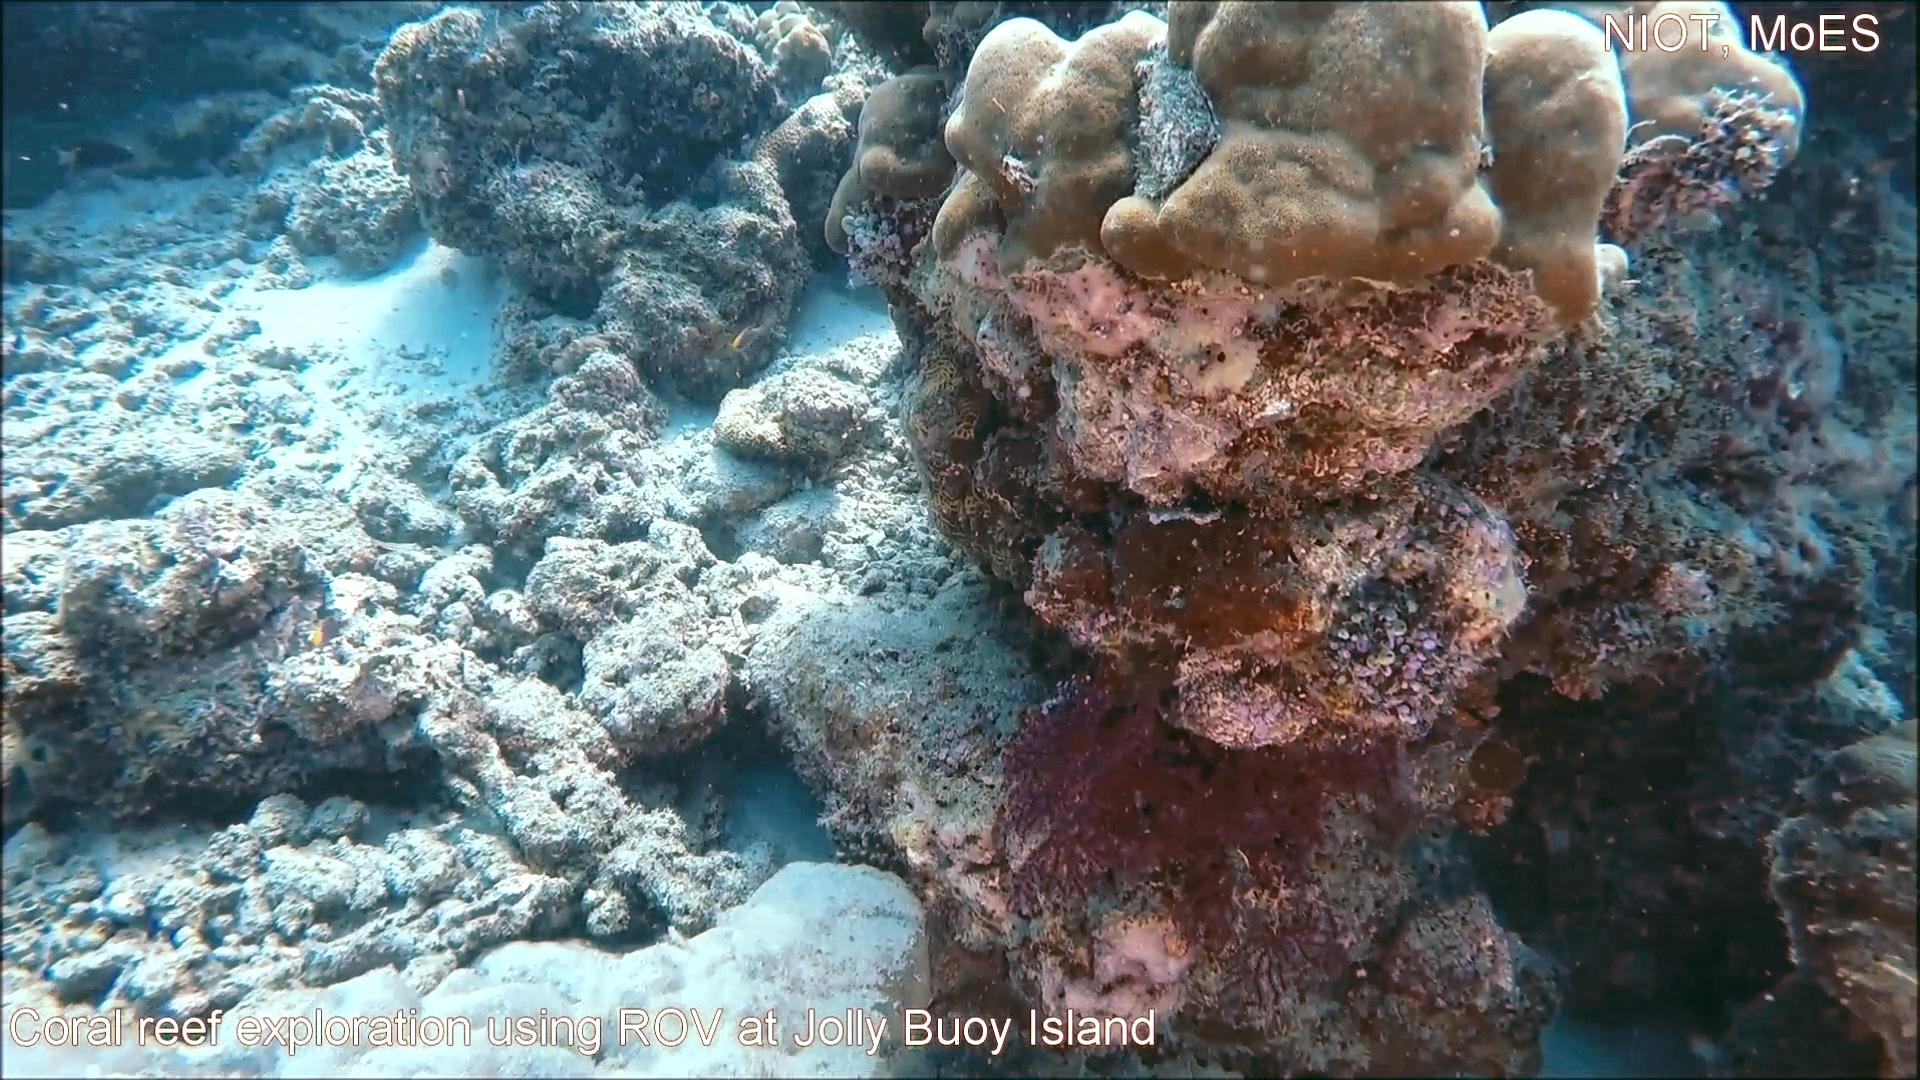Gorgonian-Purple Plexaura: (992, 646, 1426, 1006)
Porites-Porites pukoensis: (927, 0, 1636, 334), (269, 850, 939, 1080)
